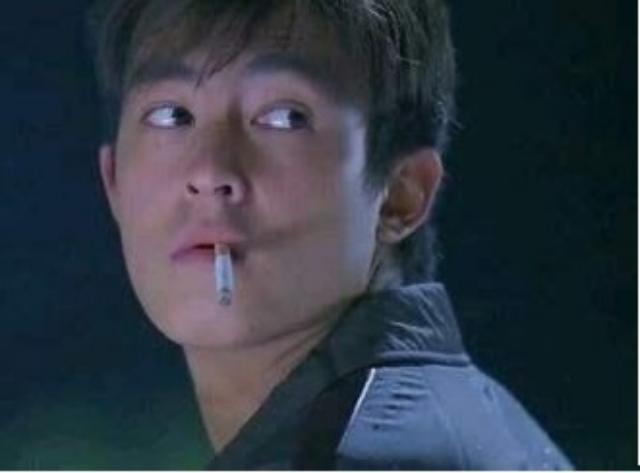SafeDriving: (236, 78, 332, 146), (125, 78, 212, 142)
Smoking: (210, 242, 240, 310)
